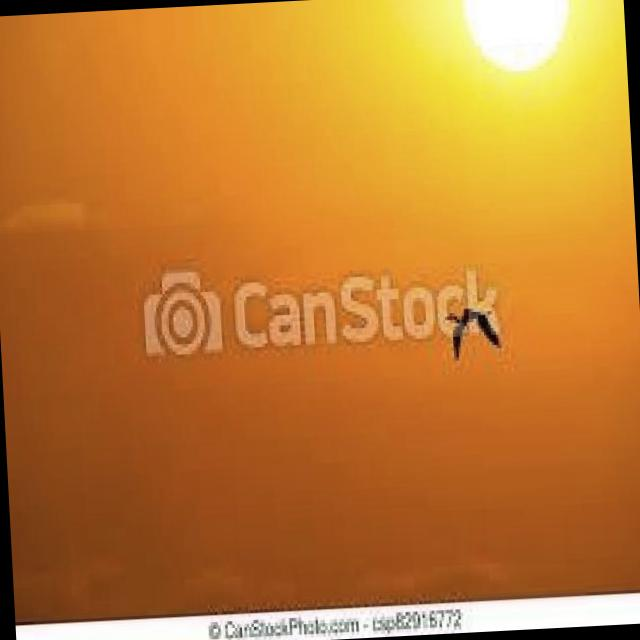bird: (447, 305, 502, 364)
